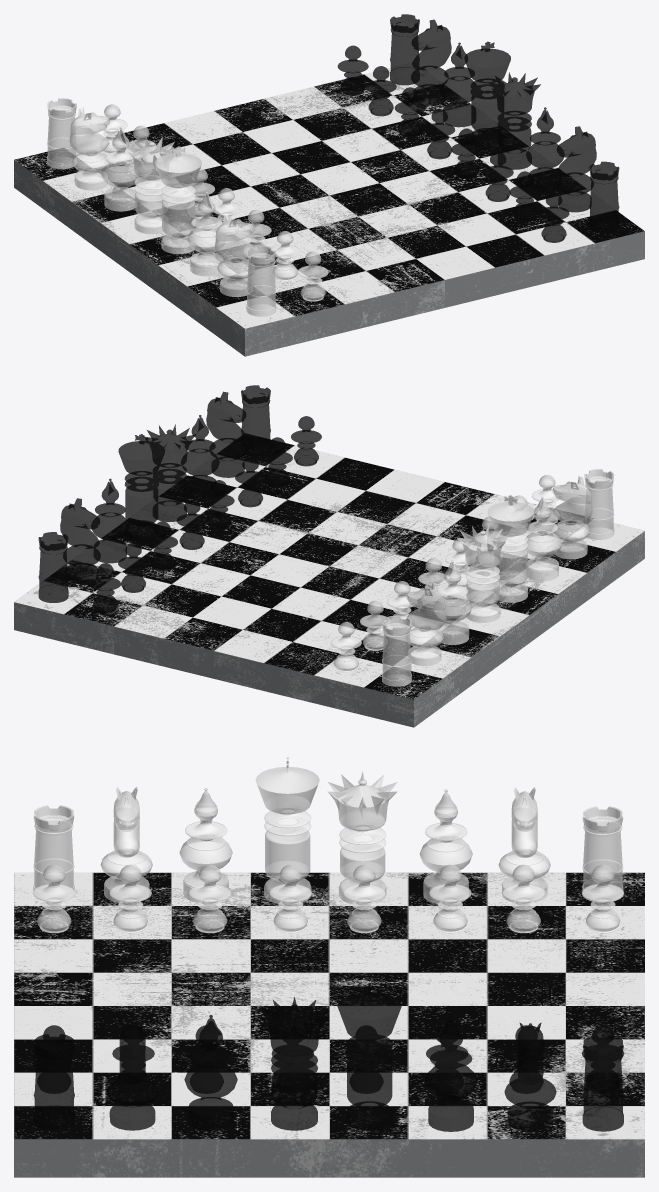
3 views of the same model, one above another, from view 1: azimuth 30°, elevation 25°; view 2: azimuth 150°, elevation 25°; view 3: azimuth 270°, elevation 25° (orthographic). The views are drawn at different scales.
Parts seen in each view (by area): view 1: BoardL, BoardR, King (×2), Queen (×2), Horse1 (×2), Horse (×2), Bishop (×2), Bishop1 (×2), Tower1 (×2), Tower (×2), Pawn1 (×2), Pawn2 (×2) (+6 smaller); view 2: BoardL, BoardR, King (×2), Queen (×2), Horse (×2), Horse1 (×2), Bishop1 (×2), Bishop (×2), Tower1 (×2), Tower (×2), Pawn8 (×2), Pawn7 (×2) (+6 smaller); view 3: BoardR, BoardL, King (×2), Queen (×2), Bishop (×2), Bishop1 (×2), Horse1 (×2), Horse (×2), Tower (×2), Tower1 (×2), Pawn2 (×2), Pawn7 (×2) (+6 smaller).
Part boxes in pixels (left/top/right/bottom): BoardL: left=14, top=111, right=444, bottom=356; BoardR: left=214, top=63, right=644, bottom=307; King (×2): left=155, top=41, right=510, bottom=254; Queen (×2): left=125, top=72, right=540, bottom=233; Horse1 (×2): left=69, top=107, right=596, bottom=212; Horse (×2): left=214, top=19, right=451, bottom=296; Bishop (×2): left=101, top=107, right=563, bottom=211; Bishop1 (×2): left=187, top=42, right=476, bottom=276; Tower1 (×2): left=47, top=98, right=619, bottom=232; Tower (×2): left=246, top=14, right=419, bottom=316; Pawn1 (×2): left=297, top=45, right=368, bottom=301; Pawn2 (×2): left=270, top=66, right=396, bottom=281; BoardL: left=214, top=482, right=644, bottom=727; BoardR: left=14, top=433, right=444, bottom=678; King (×2): left=118, top=434, right=534, bottom=602; Queen (×2): left=144, top=424, right=509, bottom=622; Horse (×2): left=60, top=476, right=592, bottom=584; Horse1 (×2): left=206, top=391, right=446, bottom=665; Bishop1 (×2): left=91, top=478, right=561, bottom=581; Bishop (×2): left=181, top=415, right=471, bottom=644; Tower1 (×2): left=241, top=385, right=411, bottom=686; Tower (×2): left=38, top=469, right=614, bottom=602; Pawn8 (×2): left=291, top=416, right=361, bottom=672; Pawn7 (×2): left=262, top=437, right=390, bottom=650; BoardR: left=14, top=1006, right=644, bottom=1177; BoardL: left=14, top=872, right=644, bottom=1005; King (×2): left=255, top=756, right=401, bottom=1130; Queen (×2): left=259, top=771, right=397, bottom=1130; Bishop (×2): left=184, top=789, right=472, bottom=1130; Bishop1 (×2): left=179, top=788, right=477, bottom=1131; Horse1 (×2): left=106, top=787, right=550, bottom=1130; Horse (×2): left=100, top=787, right=556, bottom=1130; Tower (×2): left=33, top=805, right=623, bottom=1131; Tower1 (×2): left=33, top=806, right=623, bottom=1130; Pawn2 (×2): left=109, top=864, right=547, bottom=1093; Pawn7 (×2): left=112, top=864, right=544, bottom=1093.
Bounding box in the file's own units: 0.15 × 0.0461 × 0.15.
2 materials, 2 textured.
